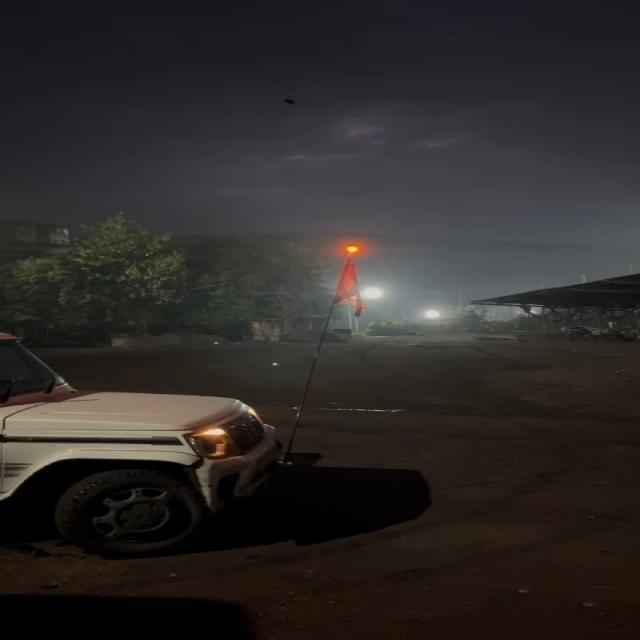light_vehicle: (0, 331, 276, 533)
